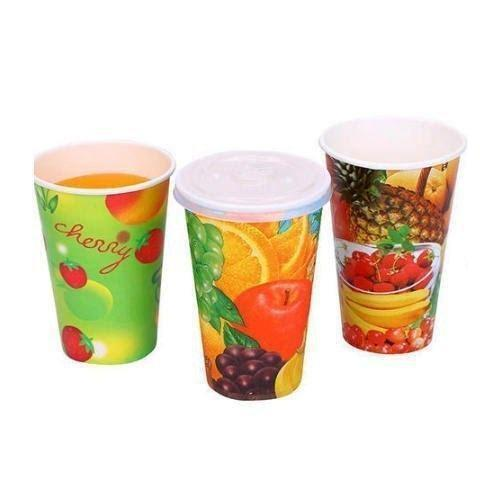cup-disposable: (173, 148, 332, 402), (318, 111, 468, 357), (32, 135, 178, 367)
